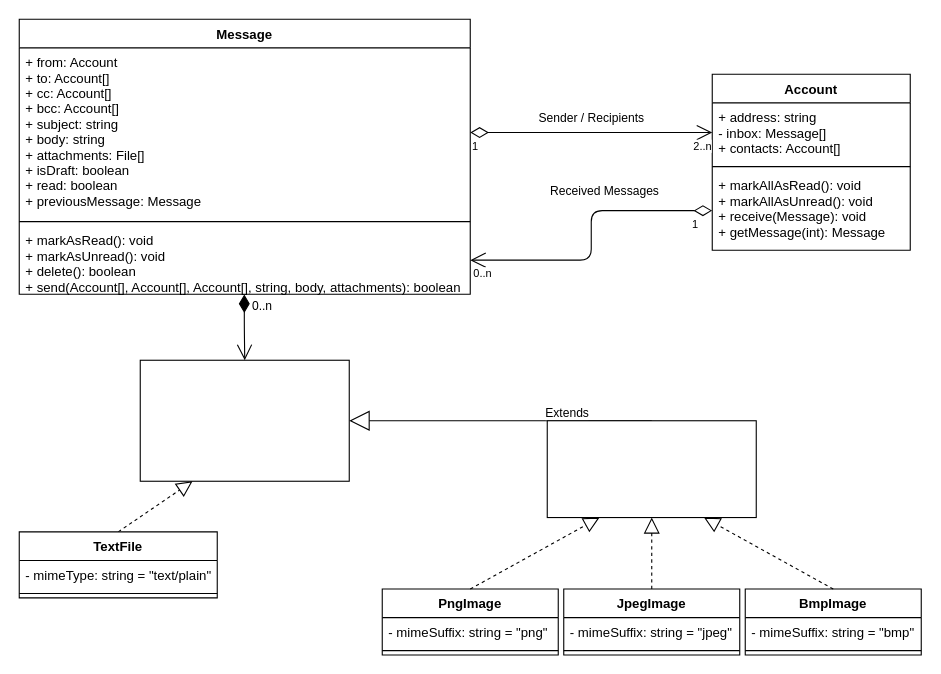
This 941x674 diagram has some shape labels left out. The shapes that lost their labels are listed below. From the top down, each one's centre as x and y in pixels, then its label:
pixel 244 420: <<Interface>> File - content: string + decode(): byte[] + getMimeType(): string
pixel 651 469: <<Interface>> ImageFIle - mimePrefix: string = "image/" - mimeSuffix: string
